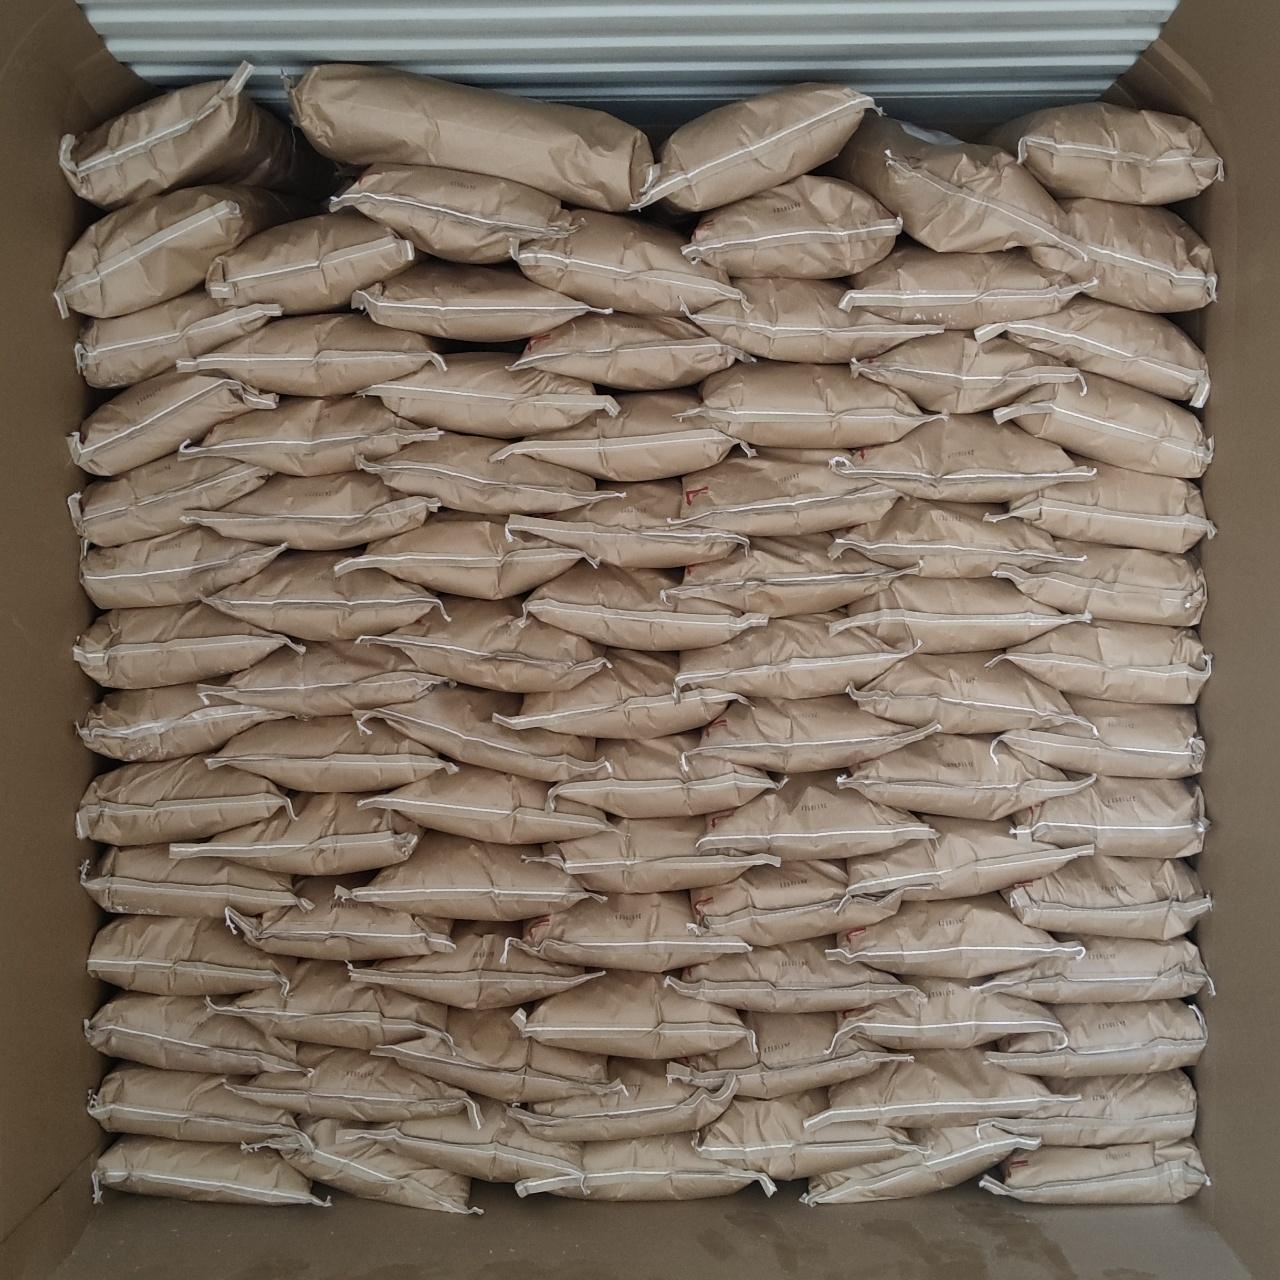sack: (284, 64, 658, 212), (60, 62, 338, 209), (825, 114, 1089, 260), (54, 186, 309, 318), (629, 84, 874, 213), (835, 815, 1092, 917), (974, 297, 1208, 407), (353, 683, 615, 781), (512, 209, 744, 316), (987, 102, 1223, 205), (331, 166, 580, 264), (491, 390, 755, 481), (338, 831, 602, 920), (373, 1009, 627, 1102), (358, 595, 602, 692), (994, 372, 1212, 478), (679, 358, 932, 449), (803, 1048, 1081, 1131), (683, 175, 903, 279), (176, 312, 445, 396), (241, 1121, 483, 1214), (830, 415, 1092, 501), (838, 733, 1094, 821), (497, 649, 749, 738), (524, 558, 765, 651), (826, 893, 1084, 979), (365, 352, 619, 438), (68, 372, 279, 476), (682, 693, 940, 777), (350, 259, 612, 342), (336, 1098, 580, 1187), (205, 962, 454, 1049), (661, 533, 919, 617), (358, 433, 619, 515), (206, 211, 416, 313), (227, 1044, 481, 1129), (689, 278, 942, 362), (847, 652, 1095, 737), (1032, 198, 1216, 313), (512, 971, 753, 1058), (205, 550, 438, 640), (508, 479, 747, 567), (697, 772, 937, 860), (695, 1089, 925, 1180), (986, 462, 1214, 553), (842, 243, 1082, 329), (181, 396, 440, 476), (169, 794, 423, 874), (667, 1012, 899, 1098), (502, 891, 750, 972), (181, 471, 440, 549), (358, 764, 617, 842), (75, 290, 280, 387), (828, 578, 1092, 653), (665, 937, 925, 1013), (801, 1123, 1039, 1206), (987, 617, 1212, 704), (77, 755, 295, 845), (73, 602, 302, 688), (508, 309, 750, 390), (526, 816, 779, 893), (675, 617, 917, 697), (338, 519, 583, 599), (200, 716, 456, 791), (69, 451, 271, 546), (546, 734, 776, 817), (829, 501, 1080, 577), (84, 990, 311, 1075), (226, 877, 452, 961), (346, 934, 602, 1008), (508, 1058, 738, 1141), (852, 331, 1084, 411), (682, 448, 898, 535), (88, 1064, 312, 1148), (826, 980, 1065, 1057), (687, 862, 901, 946), (199, 644, 443, 717), (985, 999, 1207, 1078), (517, 1132, 776, 1200), (998, 542, 1206, 626), (990, 697, 1204, 779), (81, 525, 286, 610), (91, 1133, 329, 1206), (81, 845, 314, 918), (87, 915, 295, 995), (77, 685, 292, 762), (981, 1069, 1196, 1146), (1002, 858, 1210, 938), (1008, 776, 1208, 858), (971, 937, 1212, 1003), (981, 1141, 1208, 1203), (745, 302, 750, 308)
